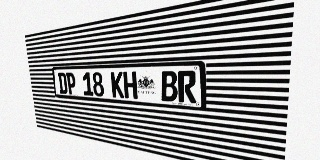1: (82, 72, 94, 96)
8: (92, 72, 104, 97)
B: (160, 71, 178, 102)
D: (58, 73, 68, 94)
H: (123, 71, 138, 99)
K: (111, 72, 124, 98)
P: (66, 72, 77, 95)
R: (178, 71, 196, 103)
